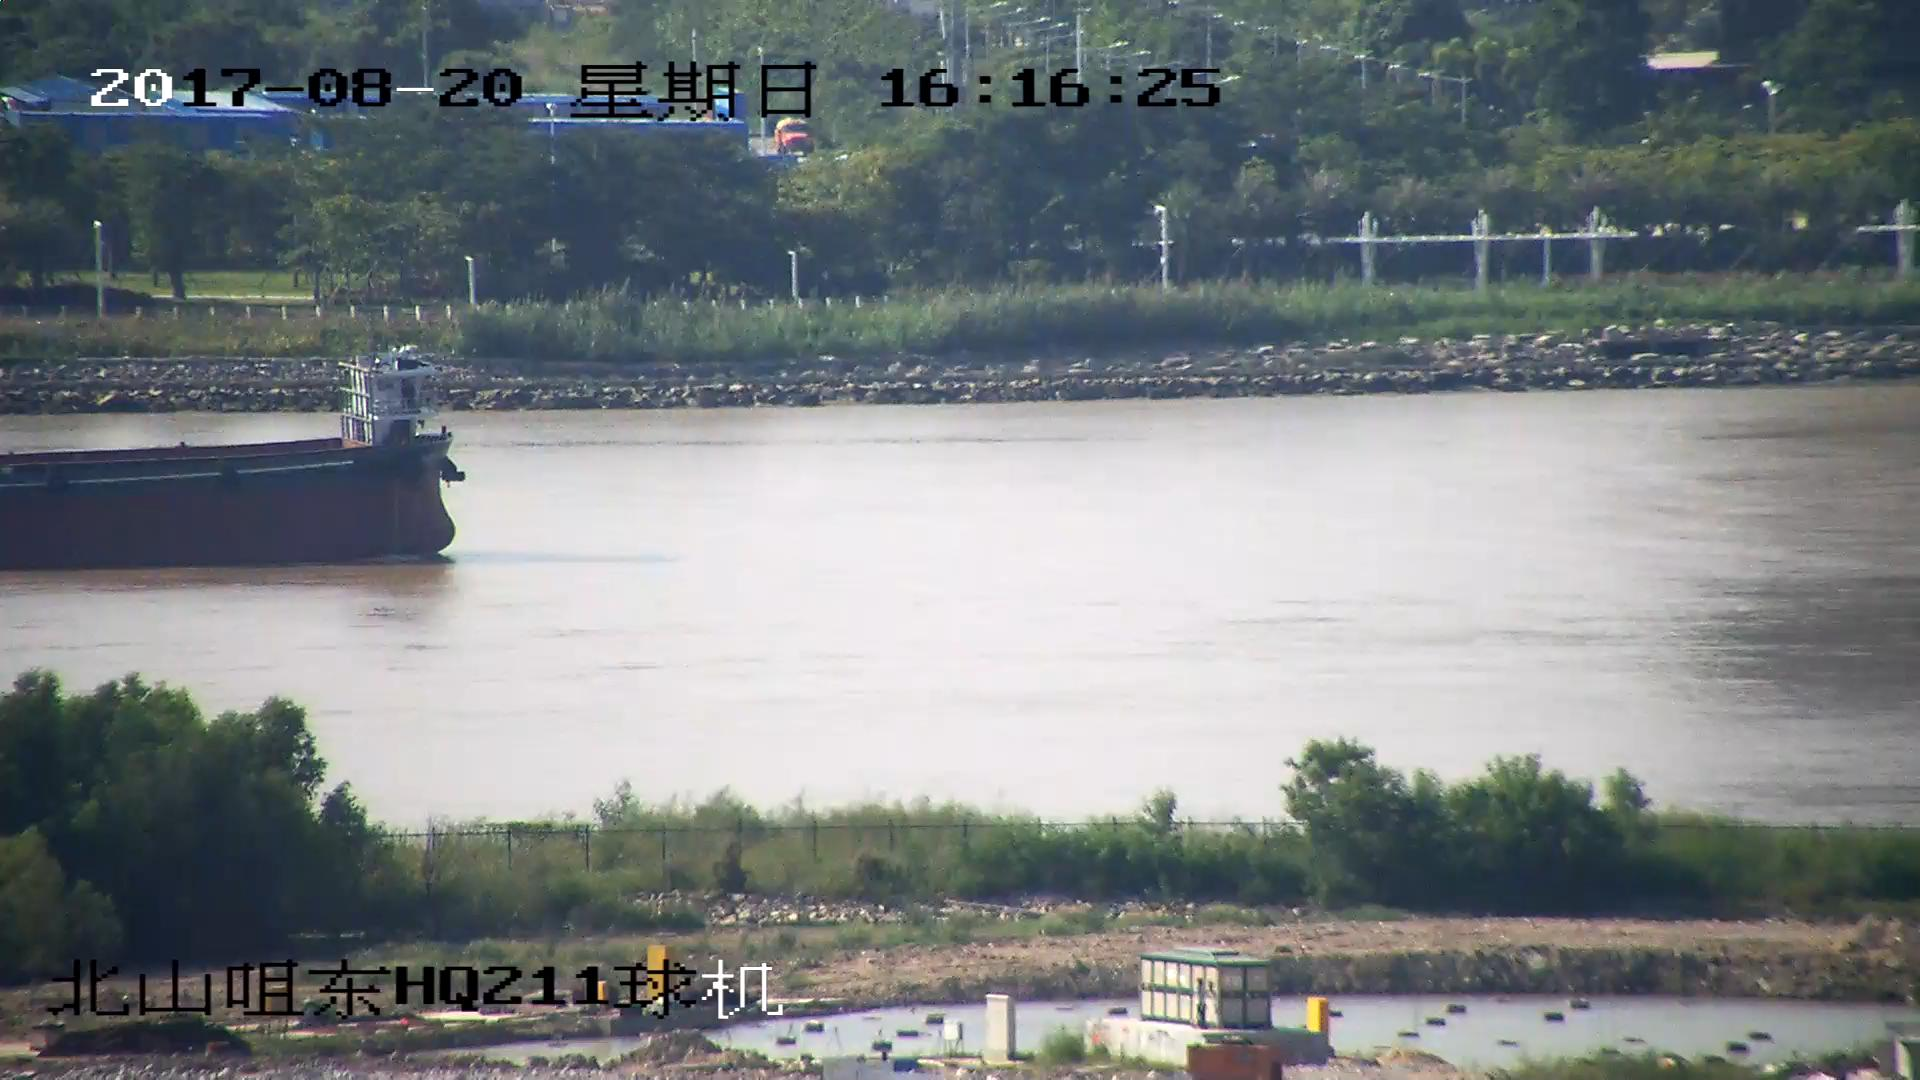general cargo ship: (1, 355, 465, 562)
